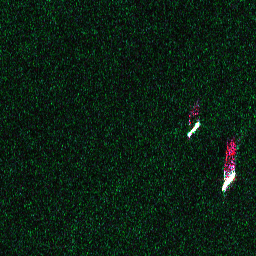ship: (218, 169, 237, 193), (185, 118, 202, 139)
